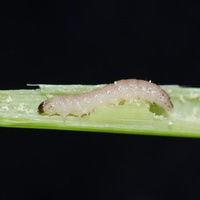insect: (38, 79, 172, 116)
